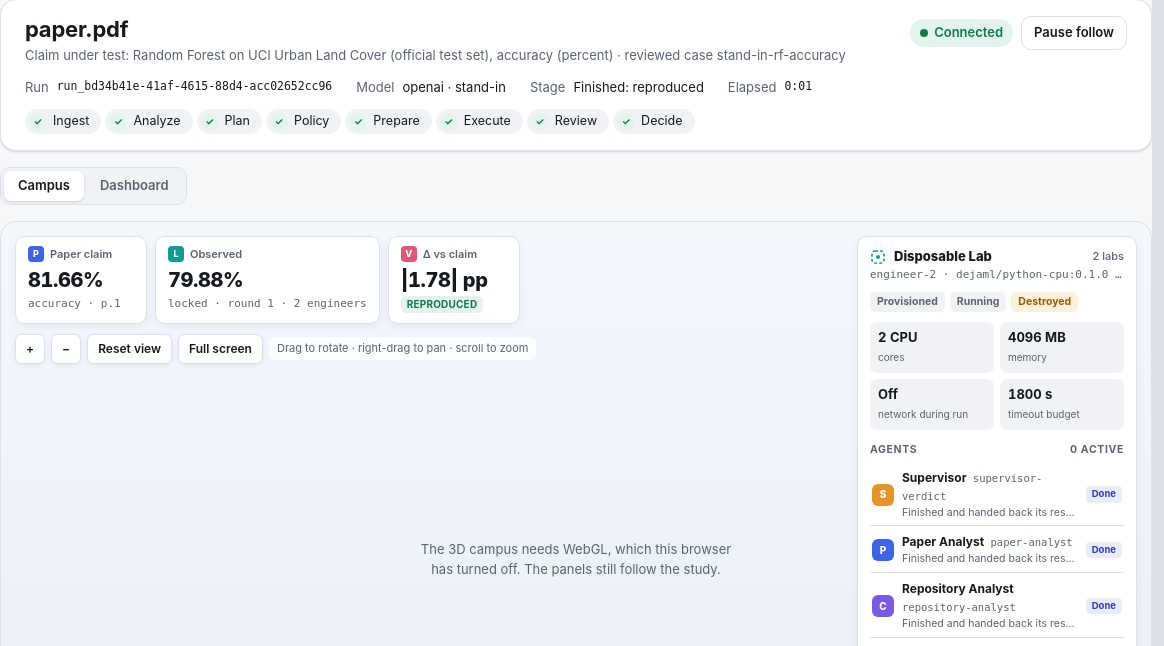
Scenario: Research Campus › is the default layout, and the dashboard is one click away
Expected: the text with test id "campus-status" reads "Reproduced", [407, 298, 477, 310]
What coordinates should you click on to do the following:
click the button "Dashboard"
I would click on:
 (134, 186)
Its box is [86, 171, 183, 201].
(page scrolled)
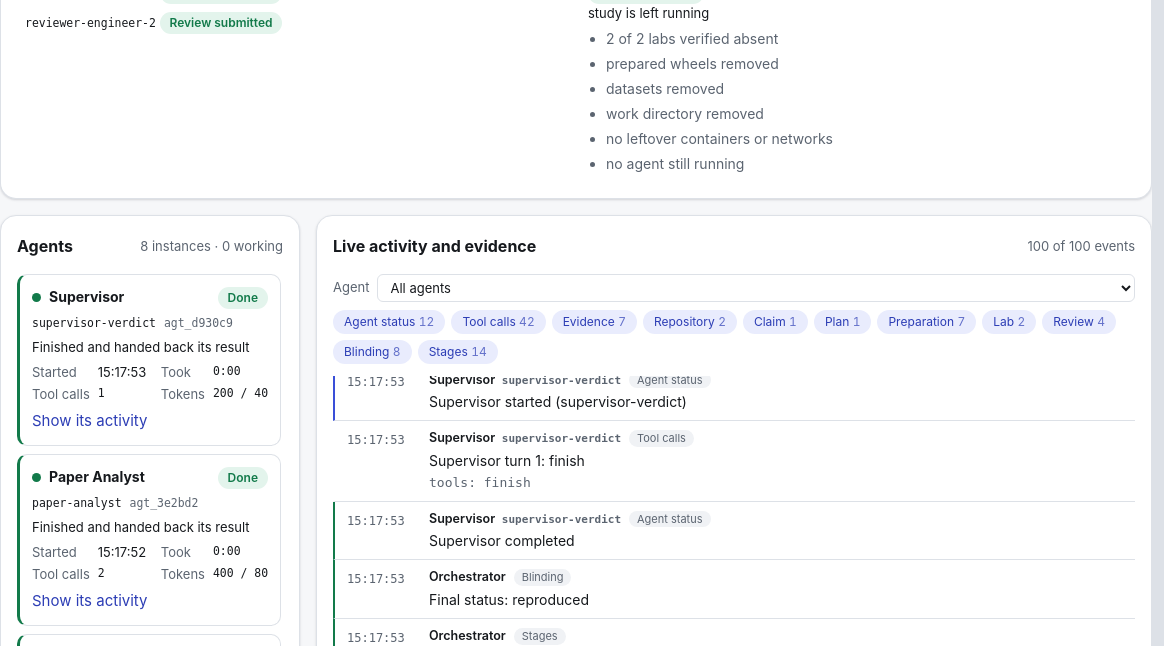
Expected: the 1st element with test id "agent-card" is shown, [17, 274, 281, 446]
